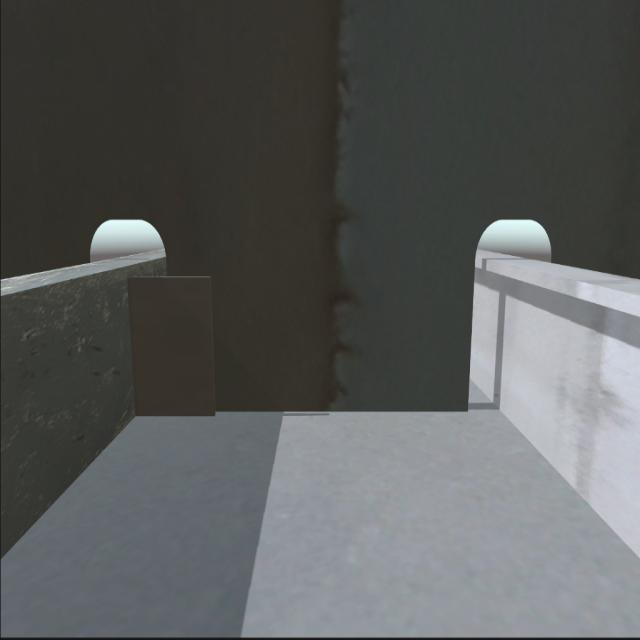fillet_yong_jeop_jang: (135, 404, 471, 418)
longi_yong_jeop_jang: (125, 275, 148, 427)
plate_CP01: (126, 272, 223, 430)
